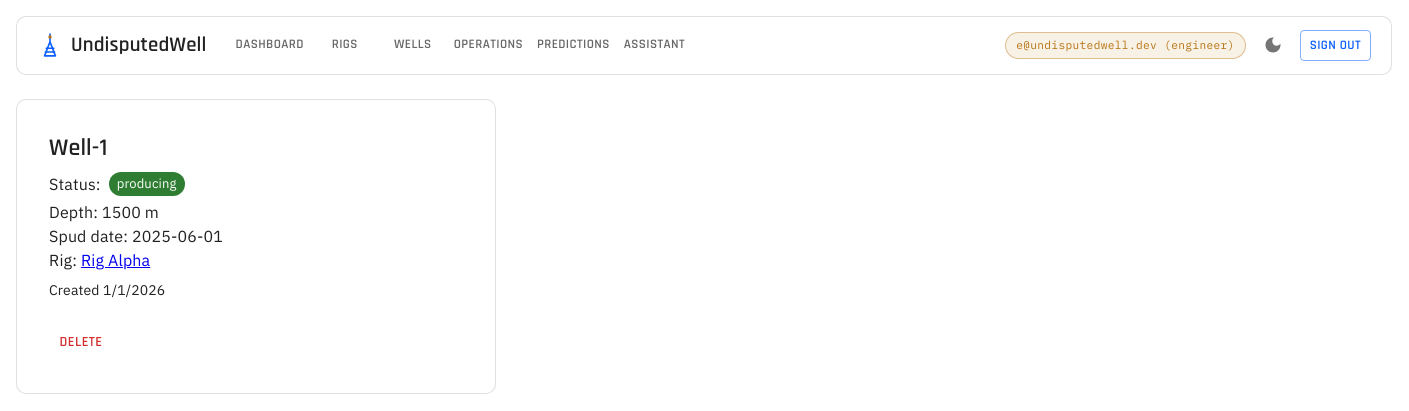
Scenario: WellDetailPage › cancels the delete confirmation without deleting
Expected: the heading "Well-1" is shown, [49,133,108,163]
Click the button "Delete" at (81, 342), box [49,324,113,361]
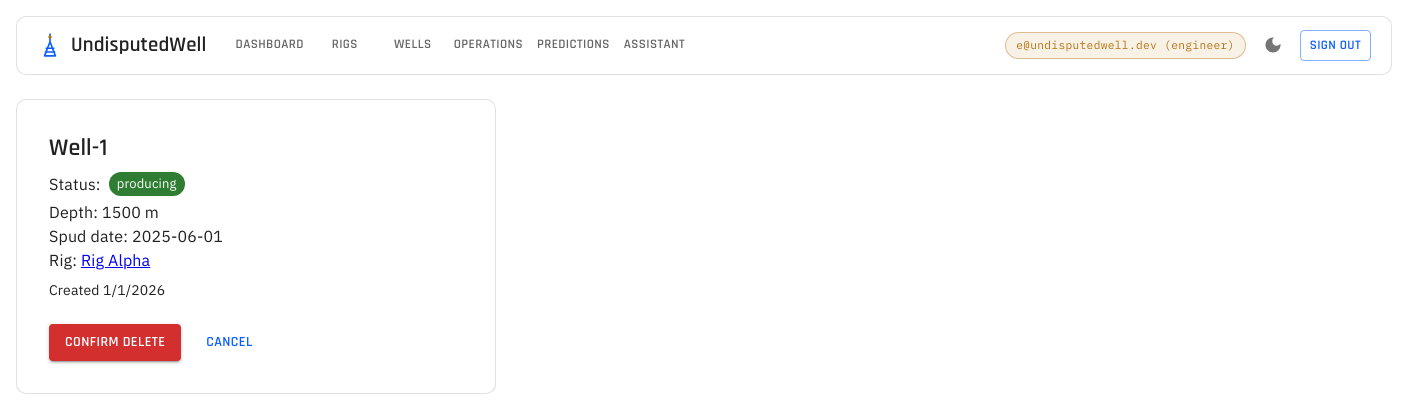
Click the button "Cancel" at (230, 342), box [198,324,262,361]
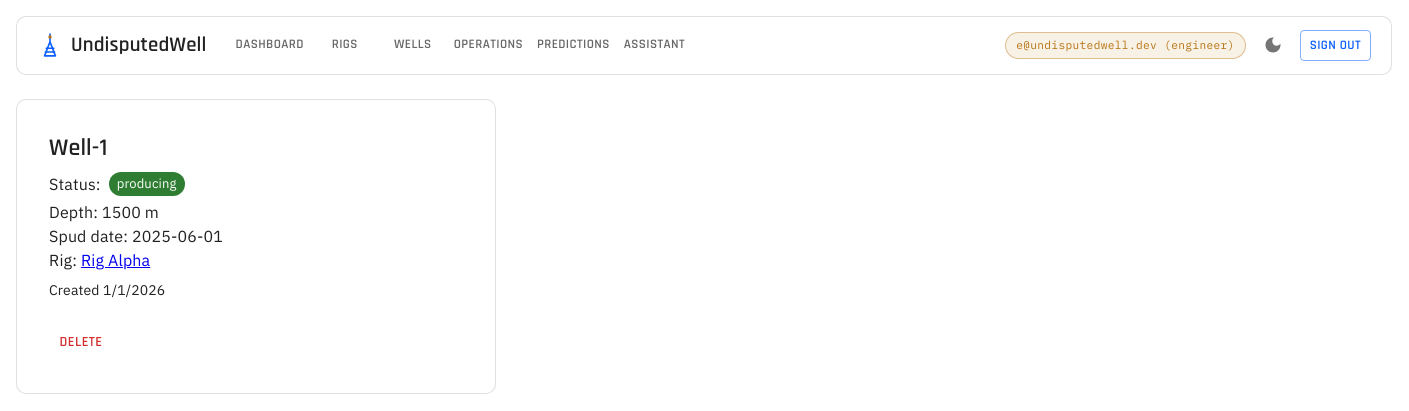
Expected: the heading "Well-1" is shown, [49,133,108,163]
Result: the button with test id "confirm-delete-well" is gone
